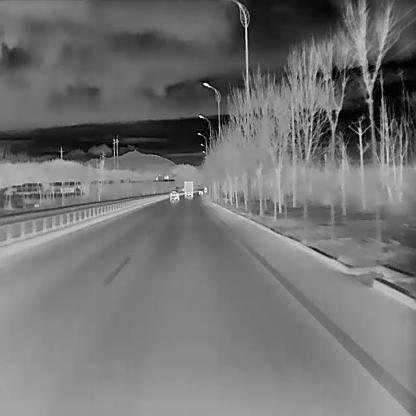car: (183, 180, 194, 198), (169, 189, 179, 201), (198, 189, 204, 194)
